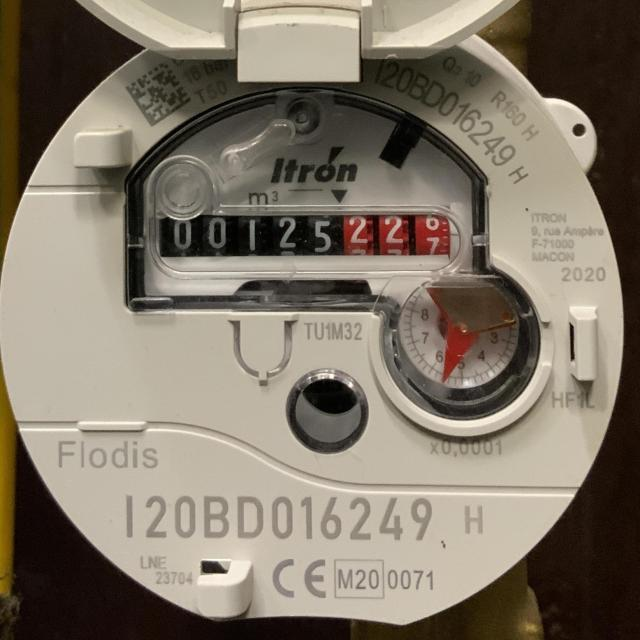gaz_meter: (0, 29, 625, 628)
indication: (155, 202, 452, 262)
